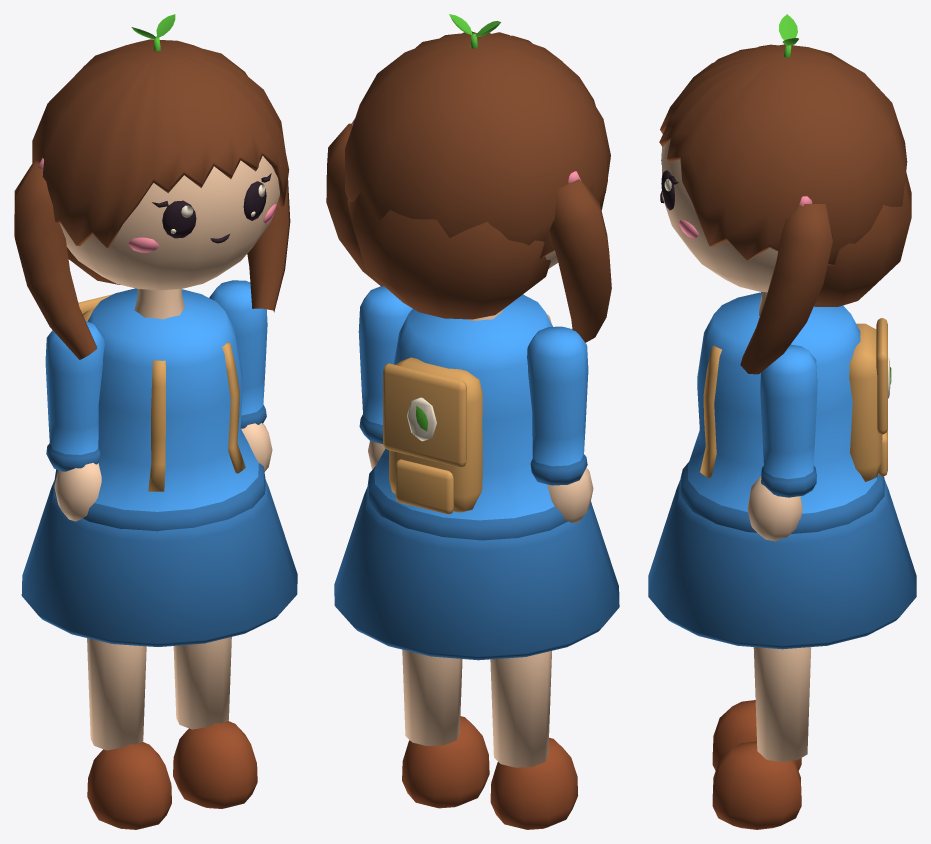
The model's file is hero-woman.glb.
The picture shows the model from 3 angles, left to right: view 1: azimuth 30°, elevation 25°; view 2: azimuth 150°, elevation 25°; view 3: azimuth 270°, elevation 25°; orthographic projection. The views are drawn at different scales.
Visible parts, largest first — view 1: body, head, leg-left, leg-right, arm-left, arm-right; view 2: body, head, leg-left, leg-right, arm-left, arm-right; view 3: body, head, leg-right, arm-right, leg-left, head-leaf.
Boxes of the visible parts, x1,y1,x2,y2 form: body: [21, 288, 297, 646]; head: [14, 39, 290, 359]; leg-left: [87, 638, 171, 829]; leg-right: [173, 637, 257, 808]; arm-left: [45, 321, 104, 521]; arm-right: [209, 280, 272, 471]; body: [334, 294, 619, 660]; head: [326, 31, 611, 342]; leg-left: [490, 651, 577, 829]; leg-right: [402, 649, 489, 808]; arm-left: [527, 326, 593, 522]; arm-right: [358, 286, 412, 469]; body: [648, 292, 916, 649]; head: [659, 44, 911, 374]; leg-right: [712, 647, 811, 829]; arm-right: [747, 344, 817, 541]; leg-left: [712, 700, 801, 770]; head-leaf: [779, 14, 798, 57].
Size of the model in its own units: 0.8628 by 2.35 by 0.7409.
